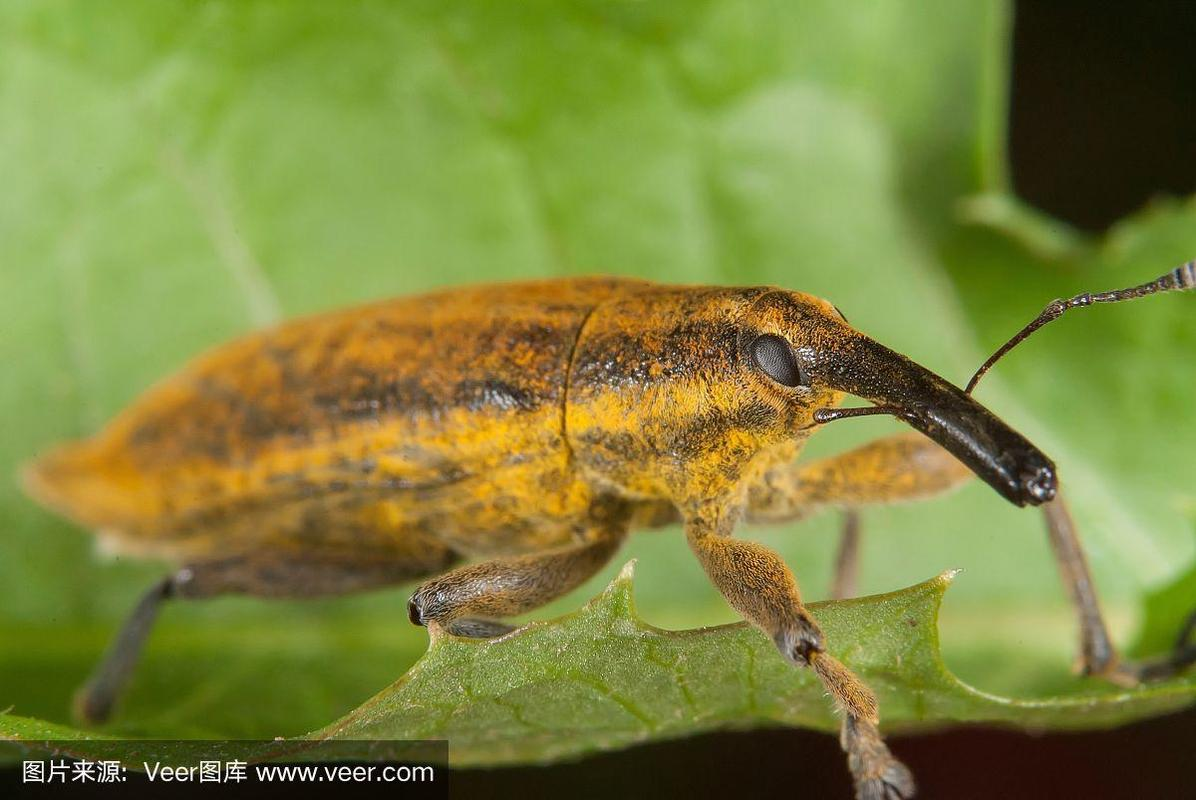Curculionidae: (19, 258, 1196, 800)
